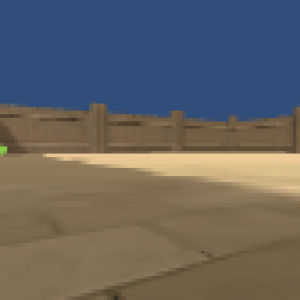goodGoal: (1, 143, 9, 157)
